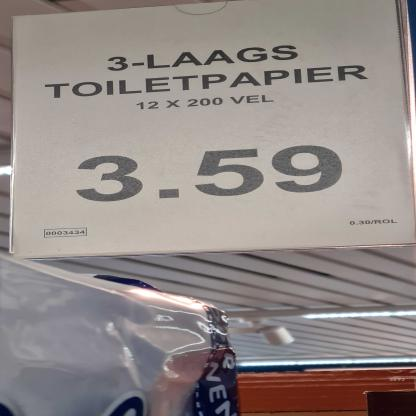prtg: (12, 1, 415, 259)
